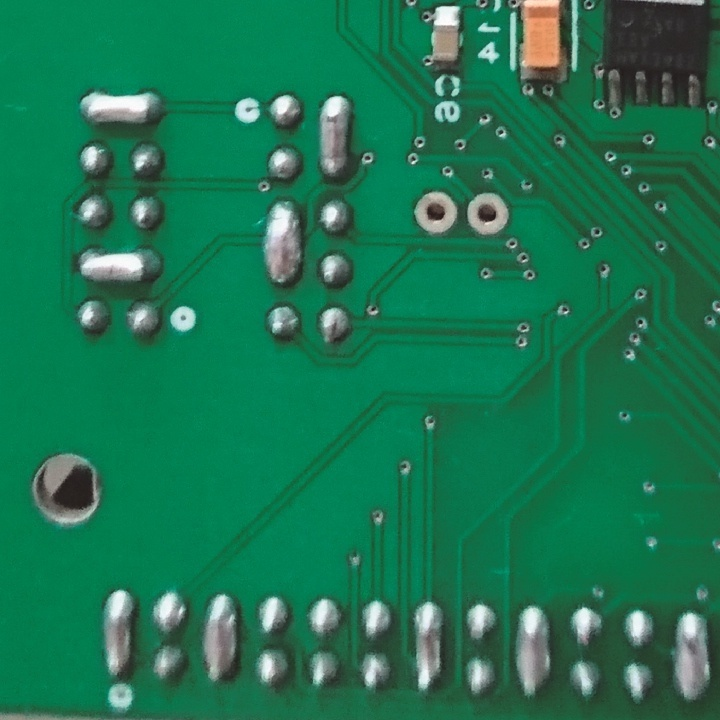F: (408, 189, 460, 238), (463, 187, 507, 240)
P: (70, 243, 170, 289), (507, 603, 556, 695), (72, 86, 170, 129), (669, 609, 713, 703), (261, 195, 304, 289), (313, 93, 356, 179), (98, 586, 137, 678), (200, 592, 240, 681), (409, 601, 448, 692)
